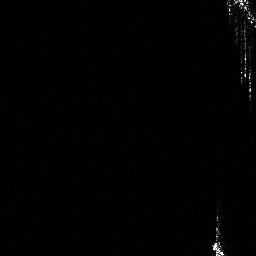ship: (223, 1, 256, 103)
